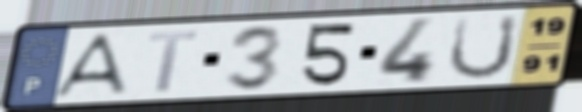3: (226, 23, 289, 93)
4: (375, 15, 441, 85)
5: (299, 23, 357, 88)
A: (48, 31, 132, 99)
T: (145, 28, 203, 94)
U: (444, 12, 522, 82)
